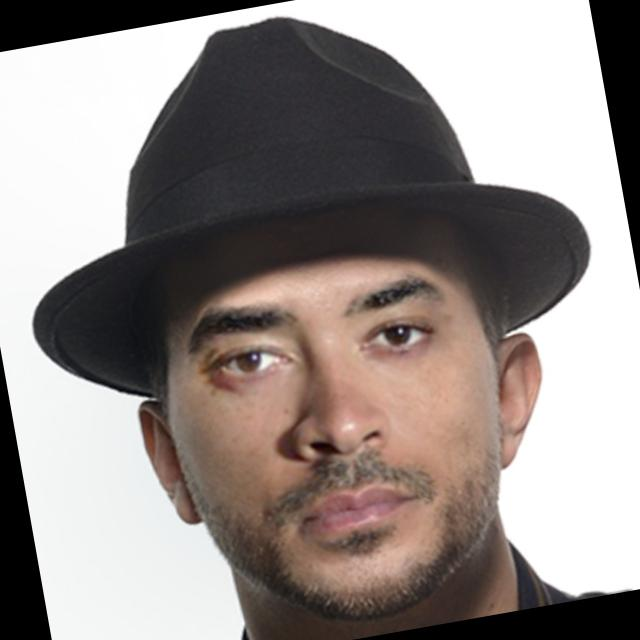face: (148, 222, 559, 640)
